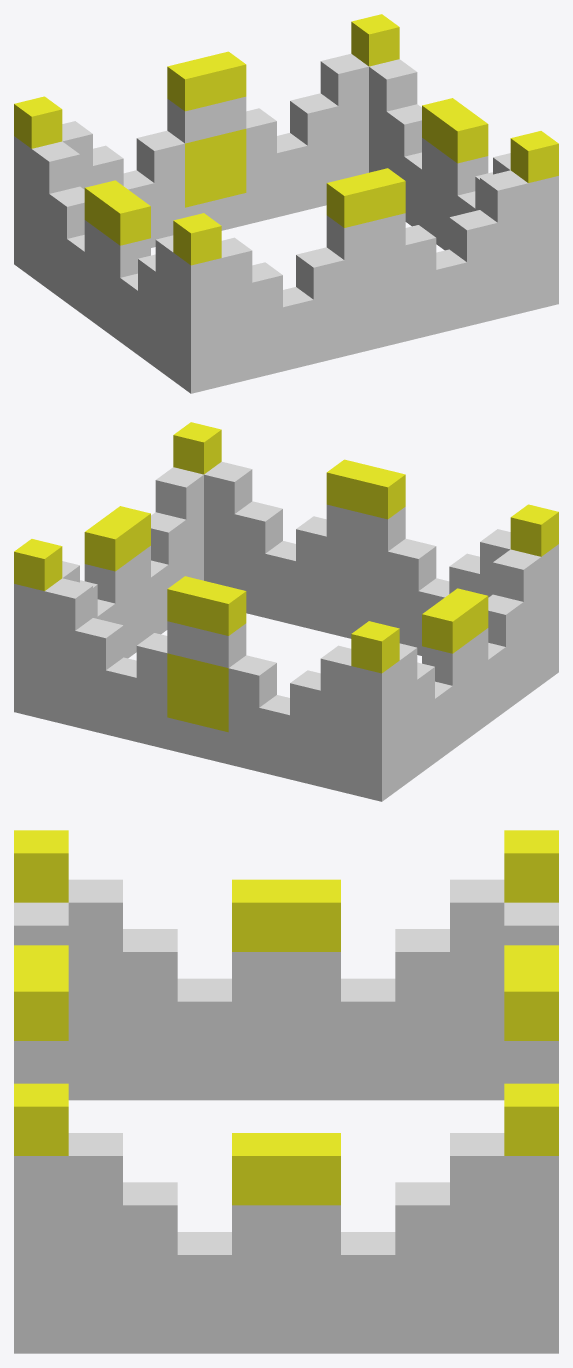
The model's file is coronaReyNivel5.obj.
3 views of the same model, one above another, from view 1: azimuth 30°, elevation 25°; view 2: azimuth 150°, elevation 25°; view 3: azimuth 270°, elevation 25° (orthographic). The views are drawn at different scales.
Bounding box in the file's own units: 1.2 × 0.5 × 1.
1 material, 1 textured.
